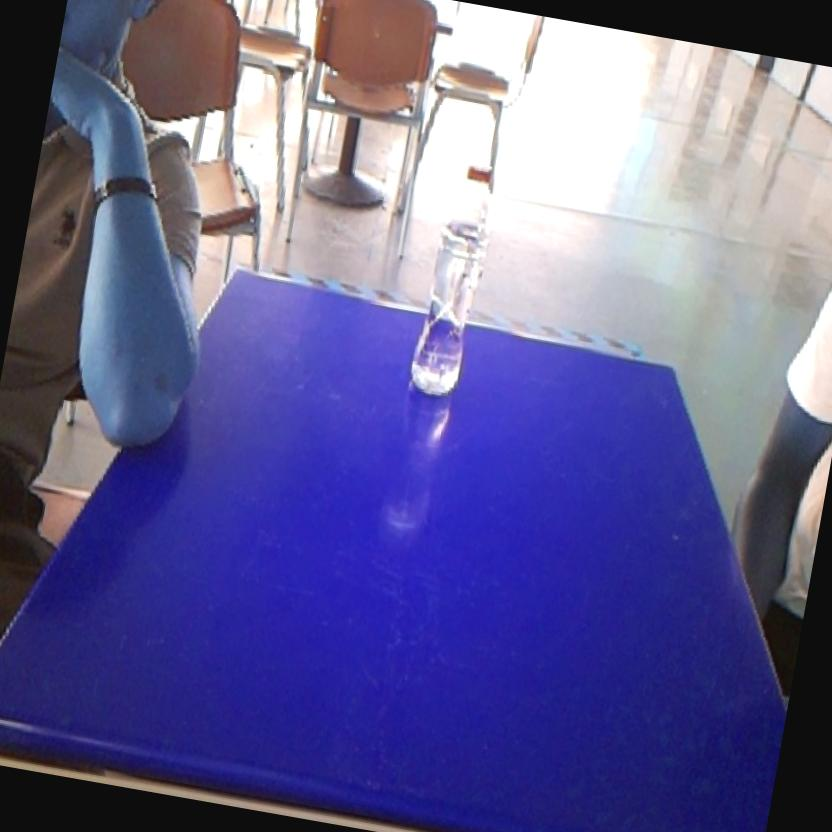no_label: (397, 148, 510, 410)
